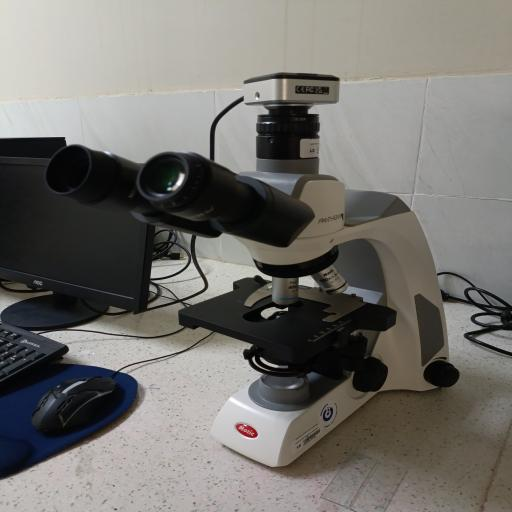Microscopio_camara: (44, 50, 476, 484)
